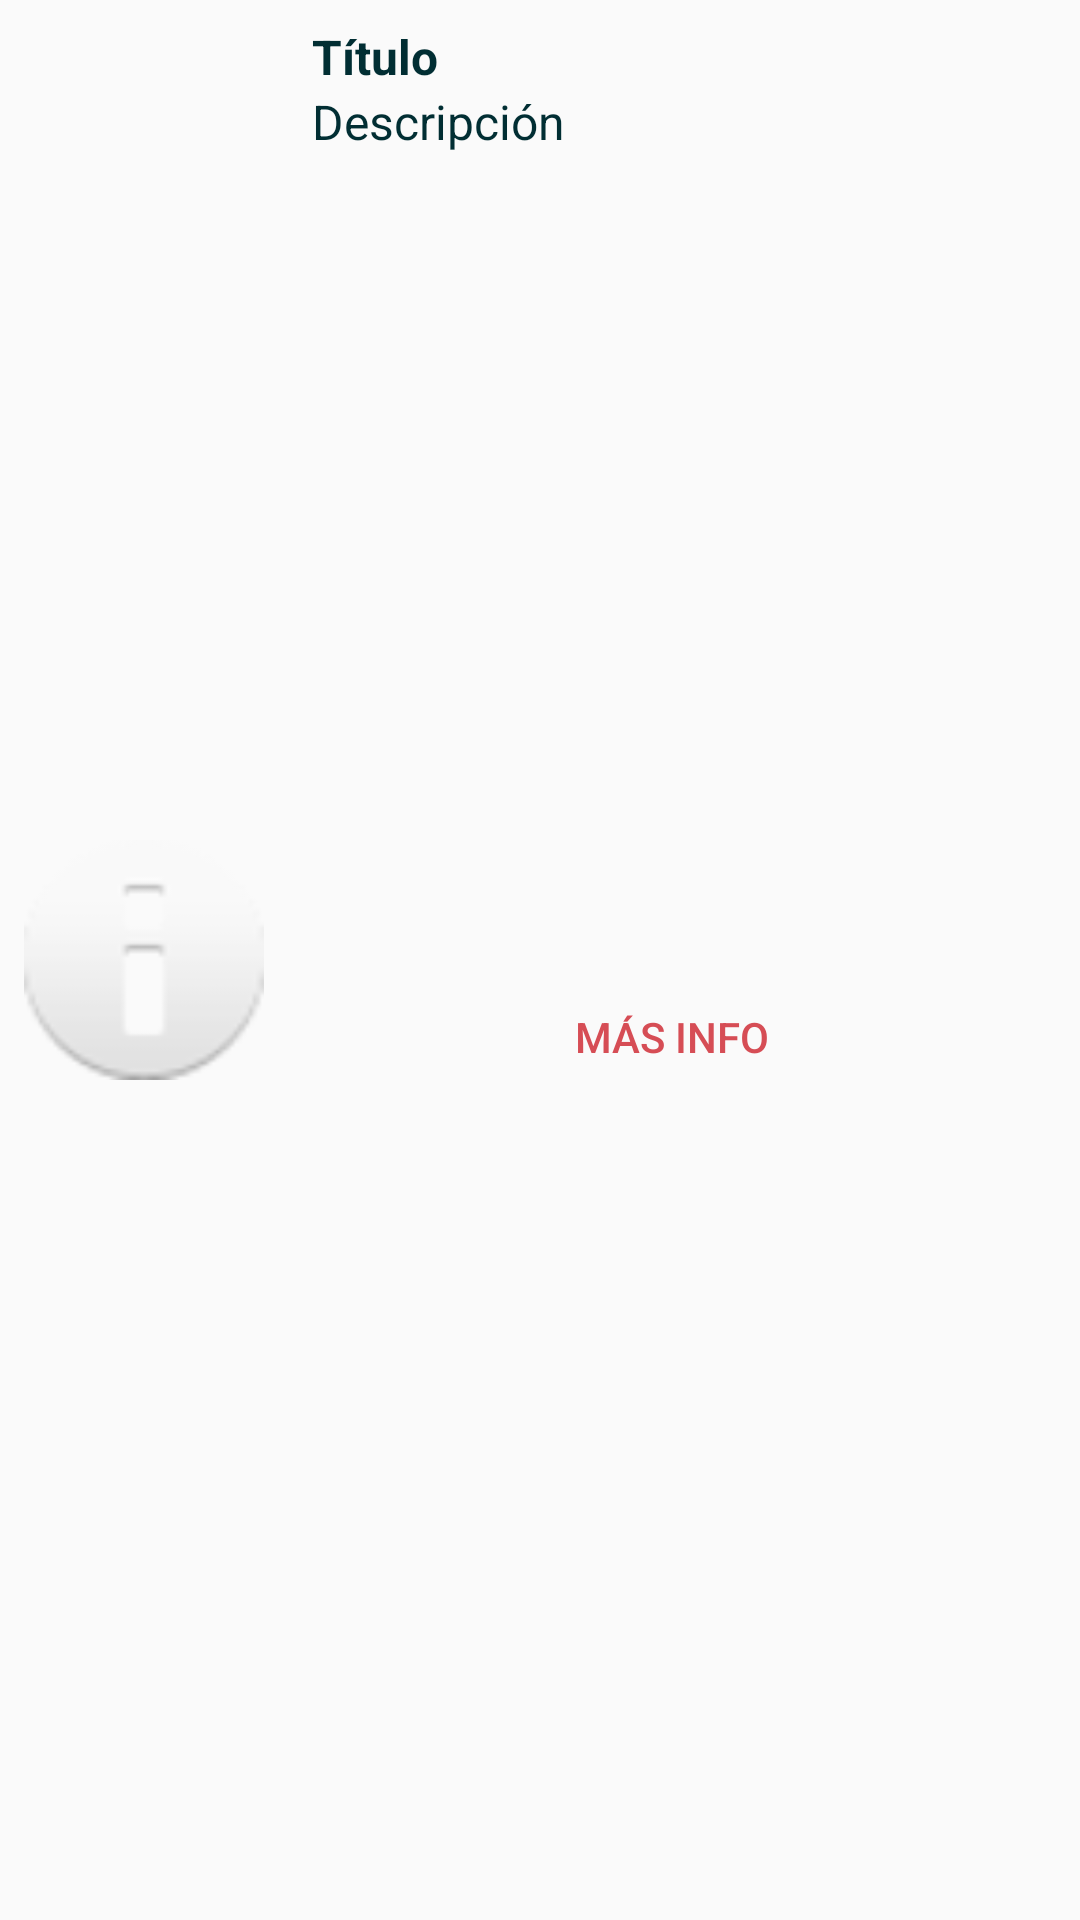

Icon click points for this 1080px x 1920px phone screenshot, format point (x, y):
info: point (144, 982)
